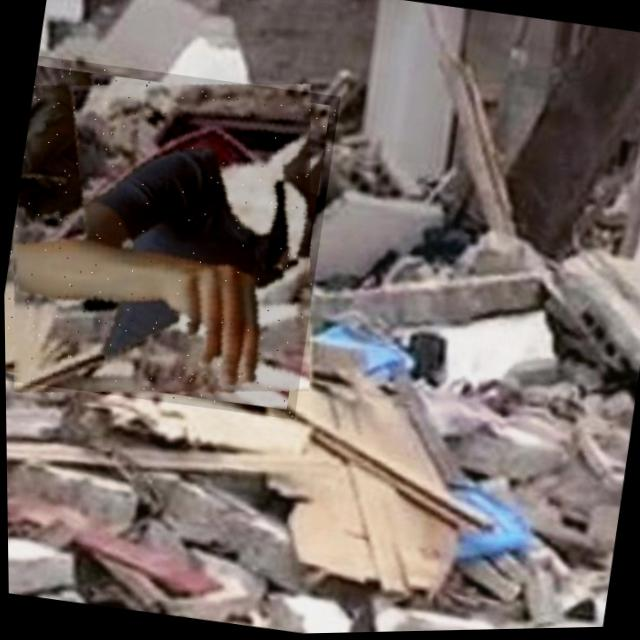Person in Rubble: (1, 50, 344, 426)
